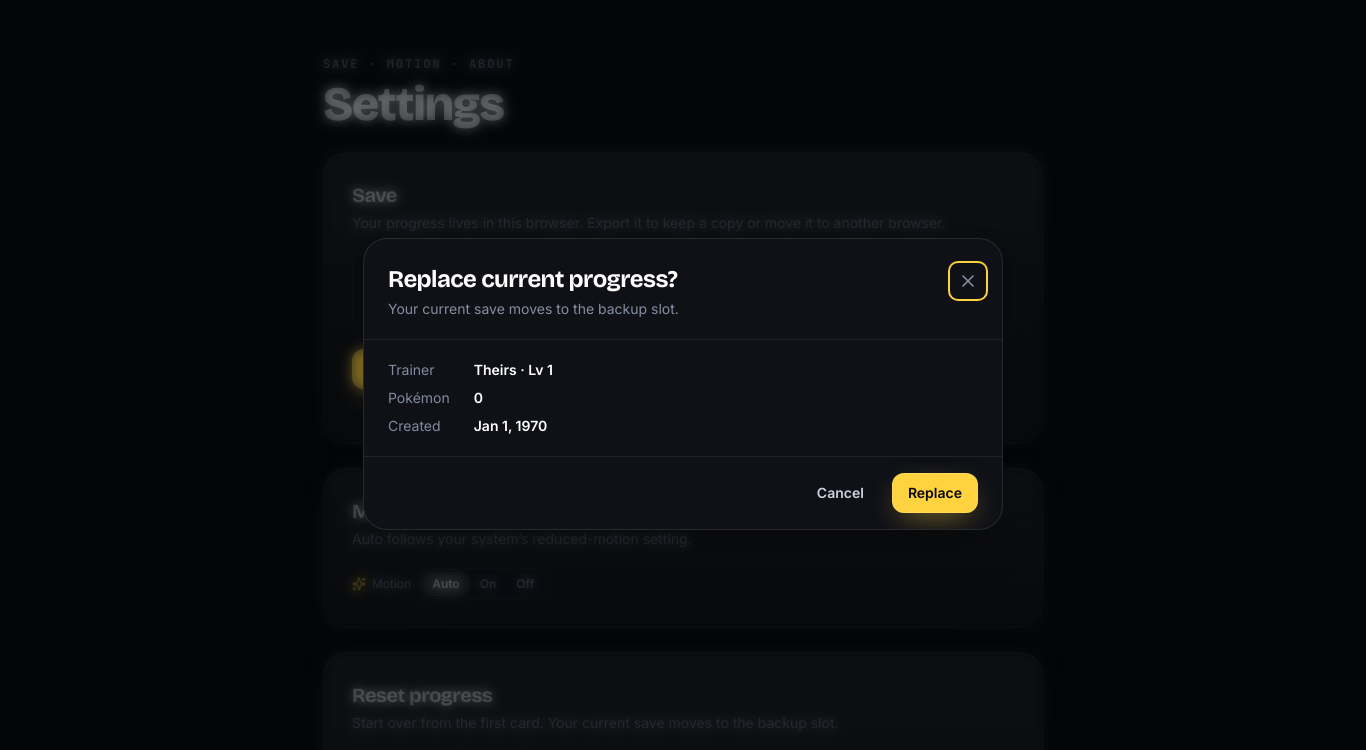
Test: SettingsPage › returns focus to Import after the confirm dialog closes
Earlier steps of the test are not shown.
Check: the button "Export save" is shown, box top-left (352, 349), bottom-right (488, 389)
Click the button "Replace" at (935, 493), box top-left (892, 473), bottom-right (978, 513)
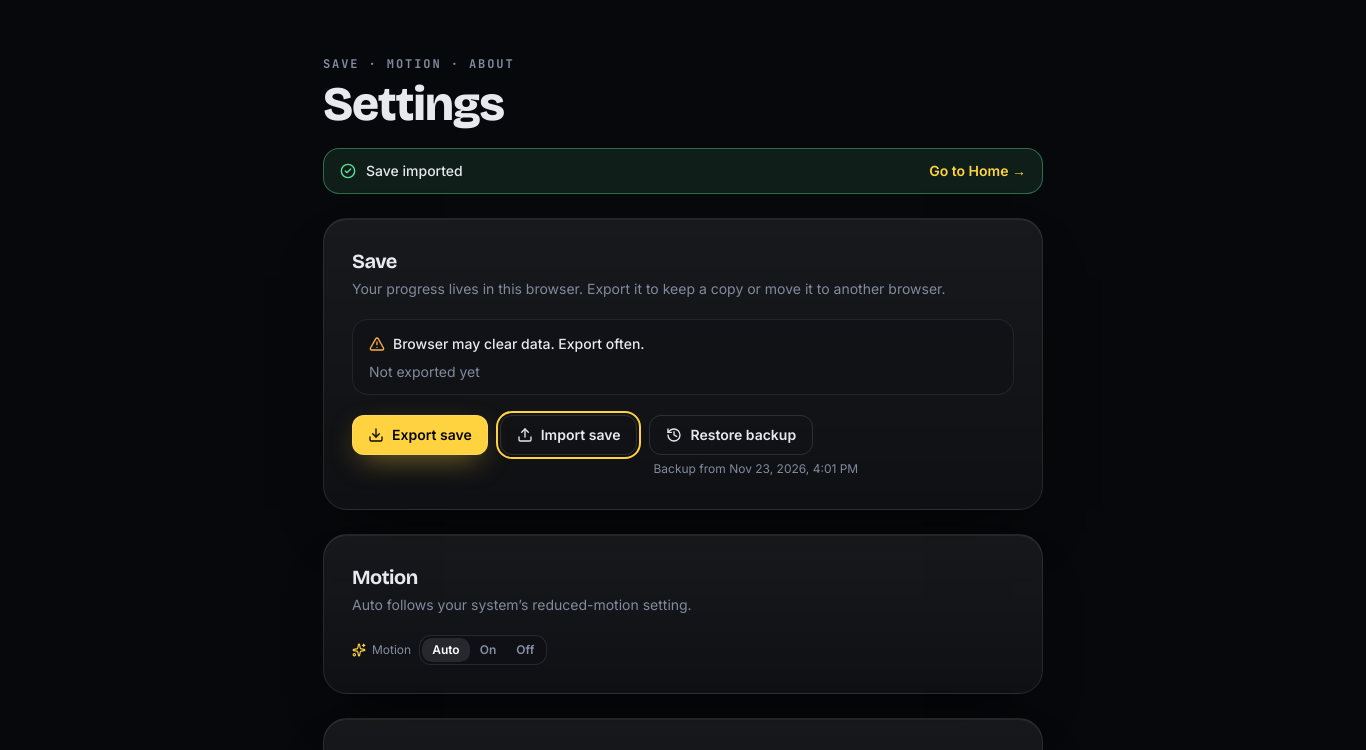
Check: the button "Import save" is enabled, box top-left (500, 415), bottom-right (638, 455)
Check: the message reads "Save imported", box top-left (366, 162), bottom-right (463, 179)
